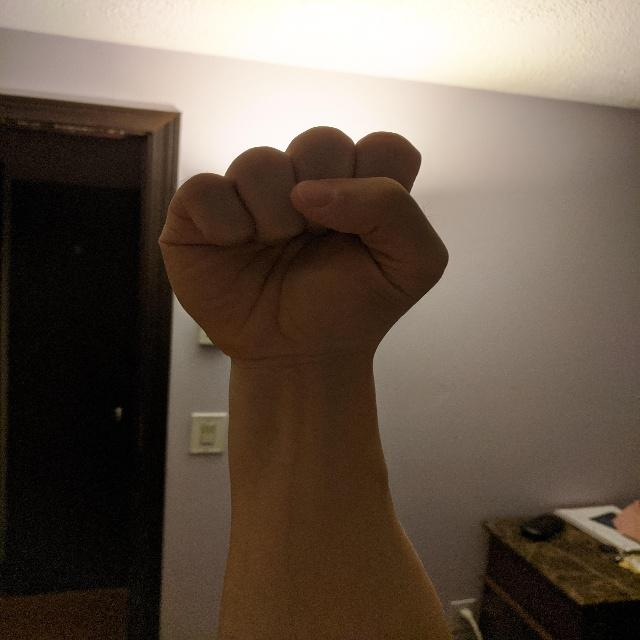S: (152, 119, 454, 366)
